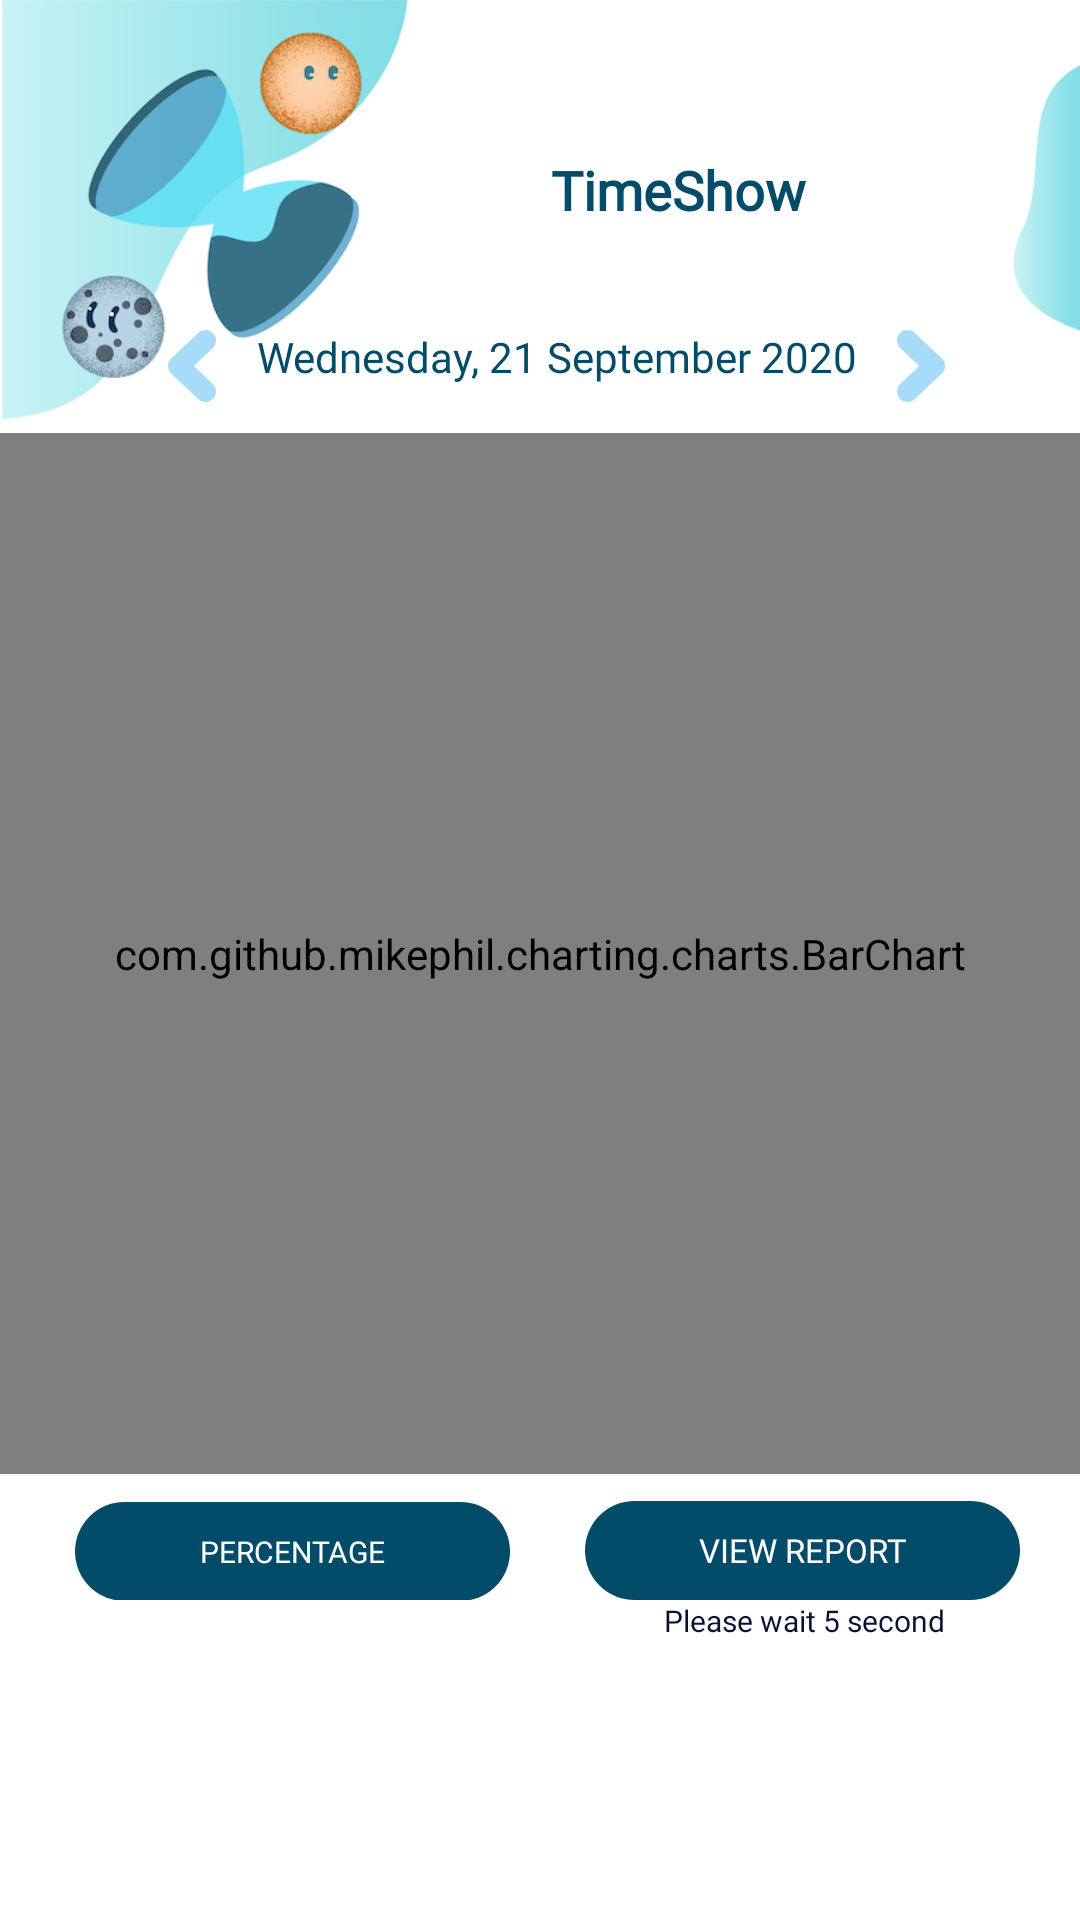

Icons on this 1080*1920 Android screen, each with the point to tap as [x,y]:
left: [192,366]
right: [921,366]
